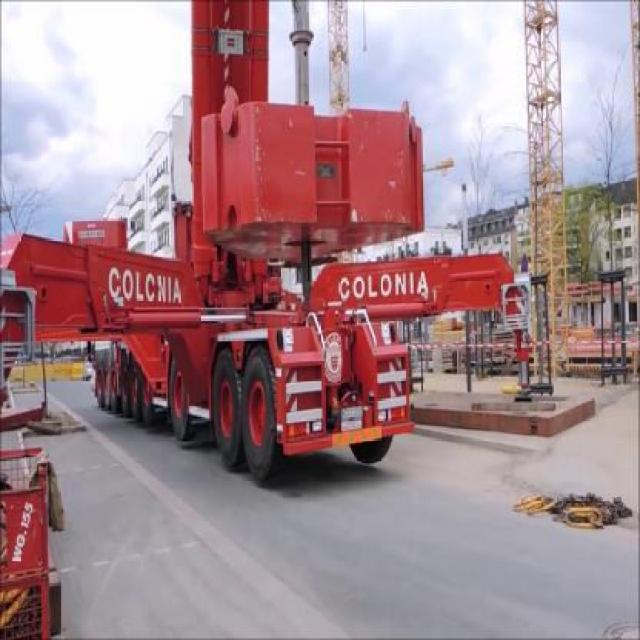Mobile Crane: (21, 0, 507, 488)
